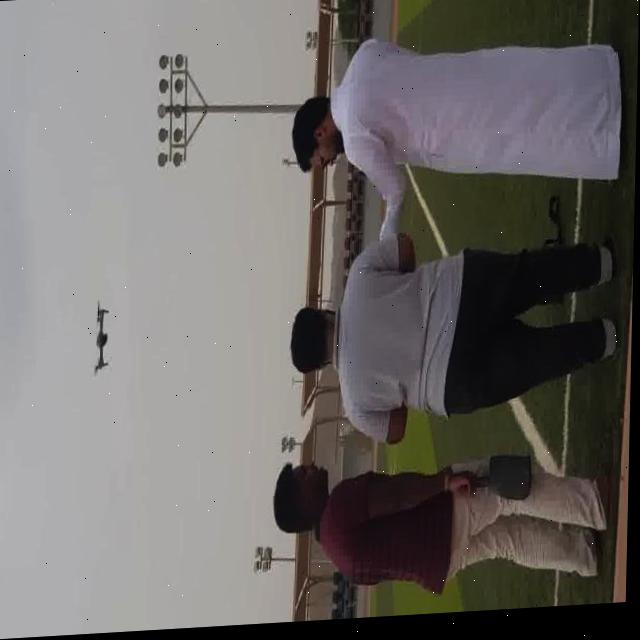drone: (90, 298, 118, 376)
